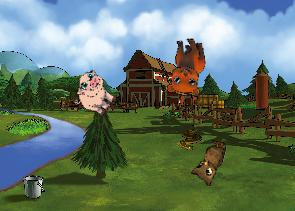bear: (162, 36, 207, 97)
owl: (188, 135, 227, 187)
pig: (67, 66, 123, 121)
